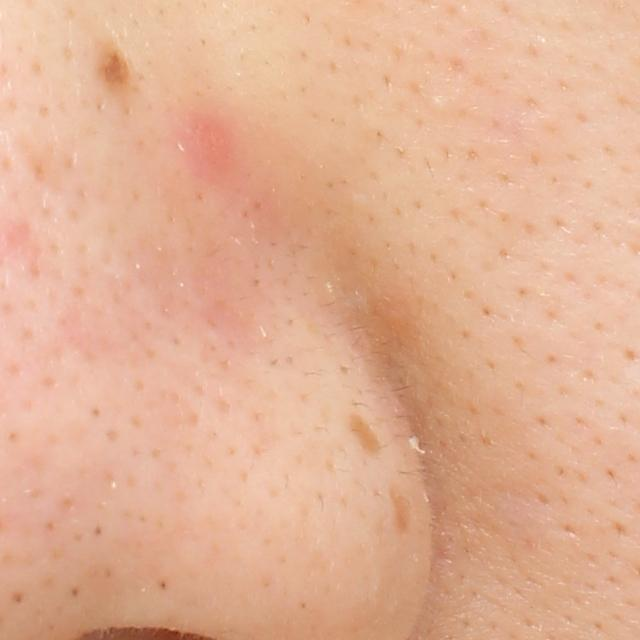melasma: (333, 404, 391, 468), (90, 41, 138, 94), (386, 482, 420, 534)
